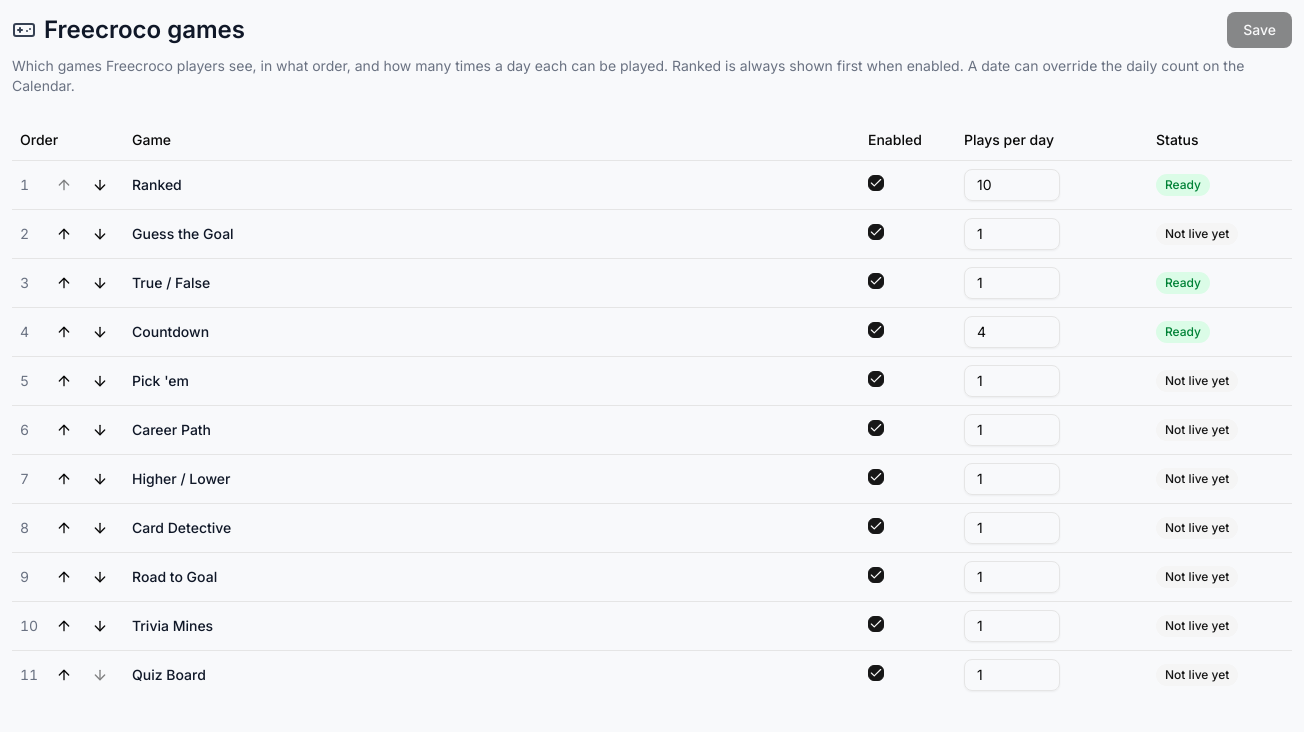
Test: blocks Save on an out-of-bound value
Check: the text "Countdown" is shown, box [124, 307, 860, 356]
Replace the text in the number field named "Countdown plays per day" with "11" at (1012, 332), box [964, 316, 1060, 348]
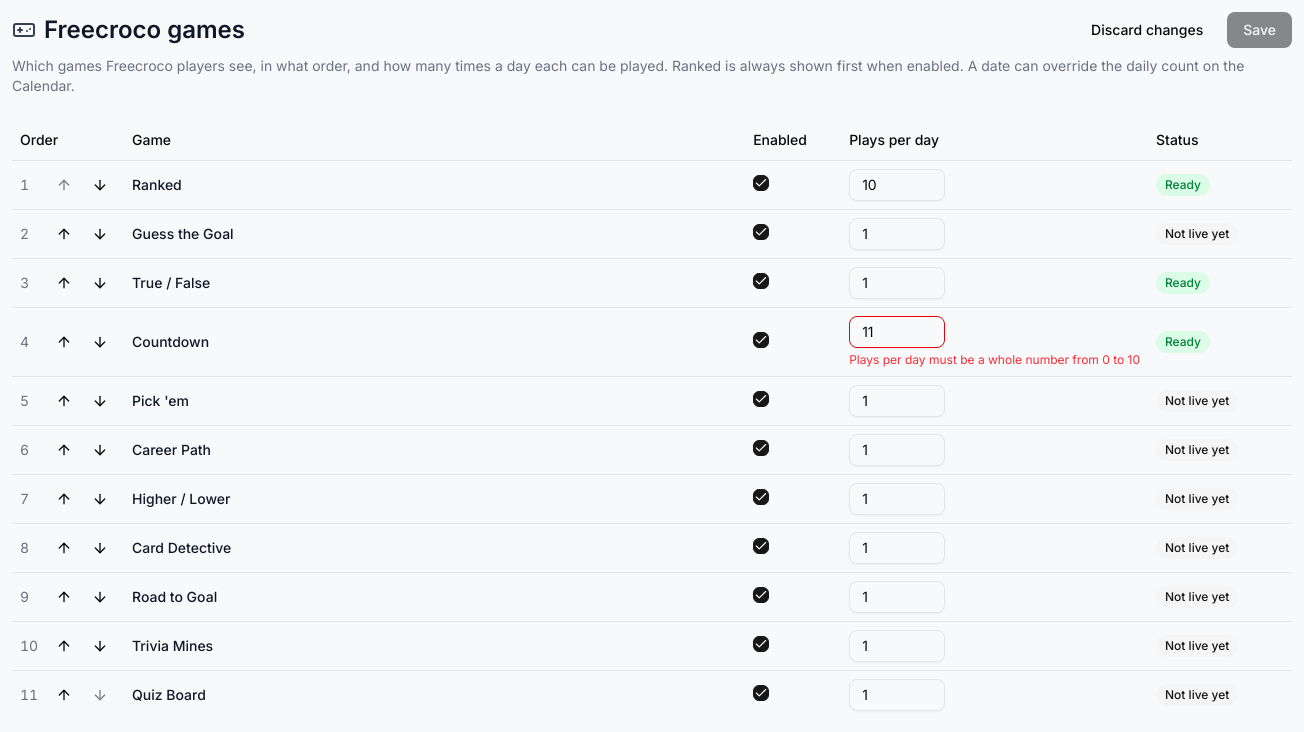
Check: the button "Save" is disabled, box [1227, 12, 1292, 48]
Check: the text "Plays per day must be a whole number from 0 to 10" is shown, box [849, 352, 1140, 368]
